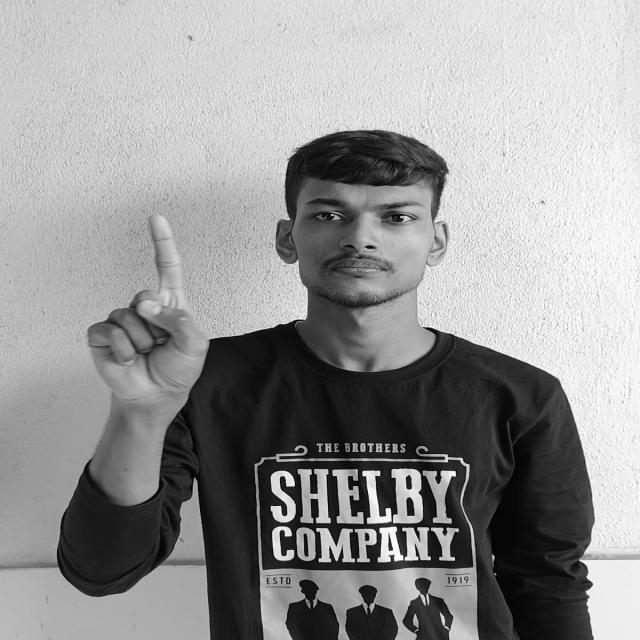Question: (84, 212, 214, 404)
